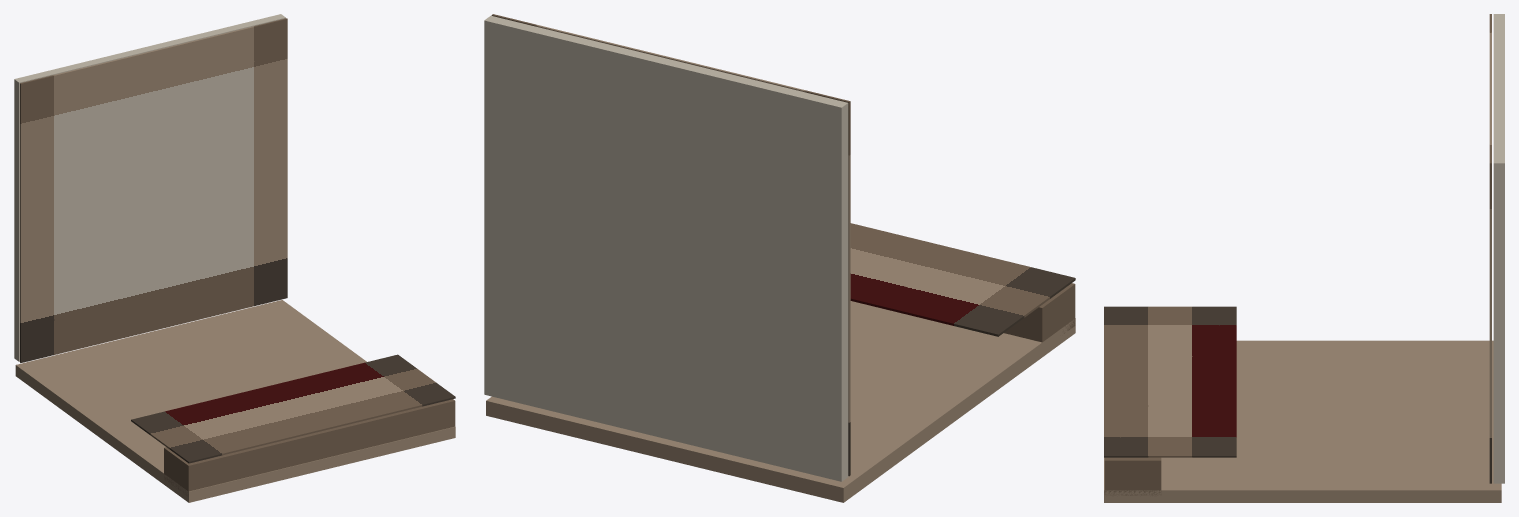
Rendered from CMU3DCMMatchBookPrintedSmallCloudOpenEmptyStudy.glb.
3 views of the same model, side by side, from view 1: azimuth 30°, elevation 25°; view 2: azimuth 150°, elevation 25°; view 3: azimuth 270°, elevation 25° (orthographic). The views are drawn at different scales.
Parts seen in each view (by area): view 1: original open inside matchbook cover, paper matchbook backing, original lower striker stripe, lower folded retaining strip, open matchbook cover upright; view 2: open matchbook cover upright, paper matchbook backing, original lower striker stripe, original open inside matchbook cover, lower folded retaining strip; view 3: paper matchbook backing, original lower striker stripe, open matchbook cover upright, lower folded retaining strip, original open inside matchbook cover.
Boxes of the visible parts, x1,y1,x2,y2 form: original open inside matchbook cover: [20, 18, 287, 362]; paper matchbook backing: [15, 300, 455, 502]; original lower striker stripe: [131, 354, 455, 463]; lower folded retaining strip: [164, 399, 455, 495]; open matchbook cover upright: [14, 14, 285, 361]; open matchbook cover upright: [484, 16, 848, 481]; paper matchbook backing: [486, 301, 1075, 502]; original lower striker stripe: [850, 223, 1075, 336]; original open inside matchbook cover: [491, 14, 850, 476]; lower folded retaining strip: [1004, 283, 1075, 342]; paper matchbook backing: [1104, 340, 1501, 502]; original lower striker stripe: [1104, 306, 1236, 457]; open matchbook cover upright: [1493, 14, 1504, 483]; lower folded retaining strip: [1104, 457, 1161, 495]; original open inside matchbook cover: [1489, 14, 1491, 483].
Bounding box in the file's own units: 0.25 × 0.265 × 0.2835.
5 materials, 2 textured.
